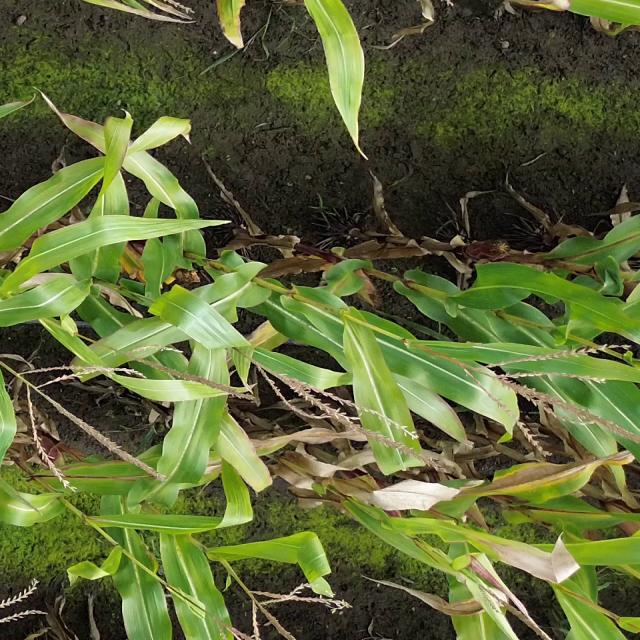northern-leaf-blight: (452, 457, 577, 503), (103, 459, 224, 489), (559, 233, 631, 264)
